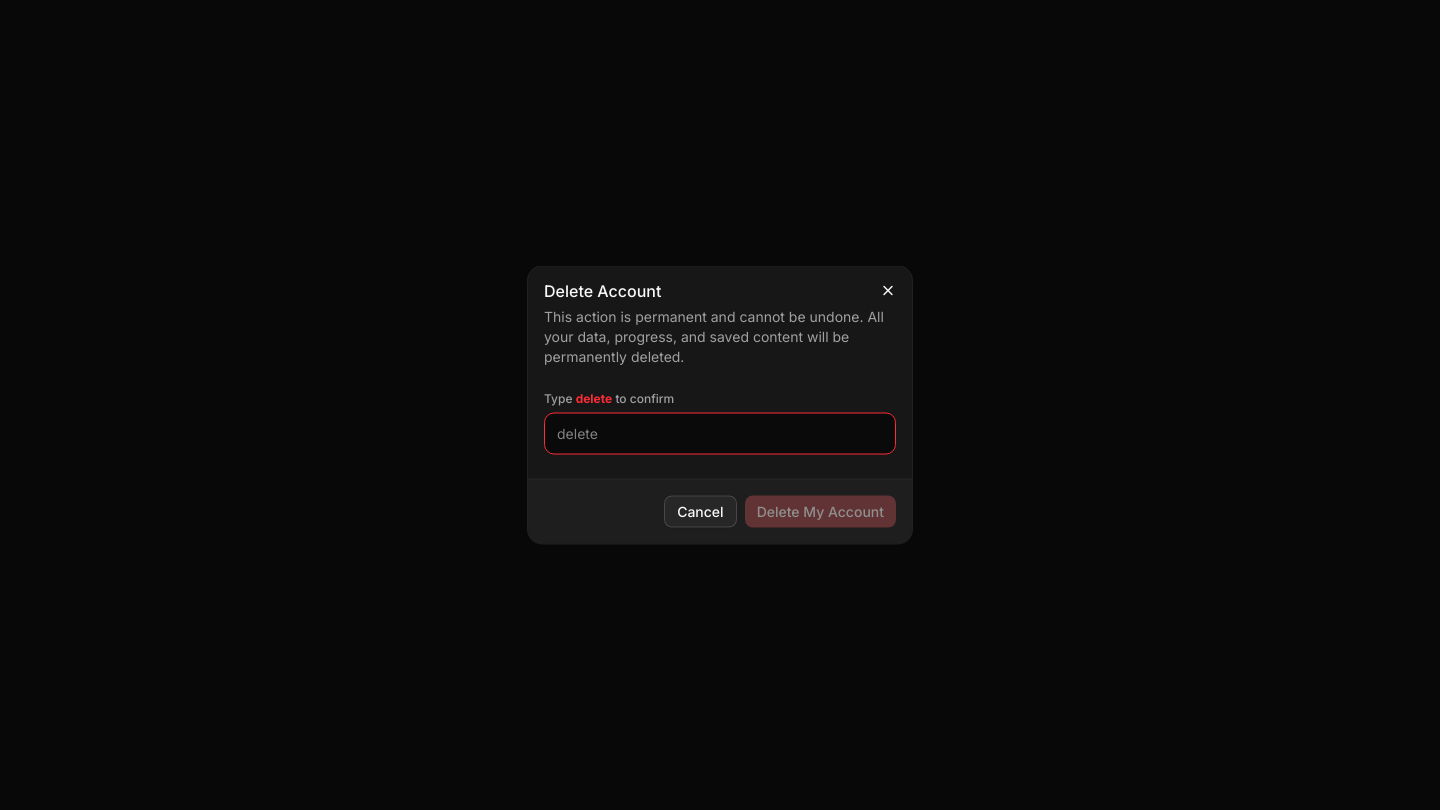
DeleteAccountDialog › accepts case-insensitive delete
In the field with placeholder "delete": [720, 434] box x1=544 y1=412 x2=896 y2=454, type "DELETE"
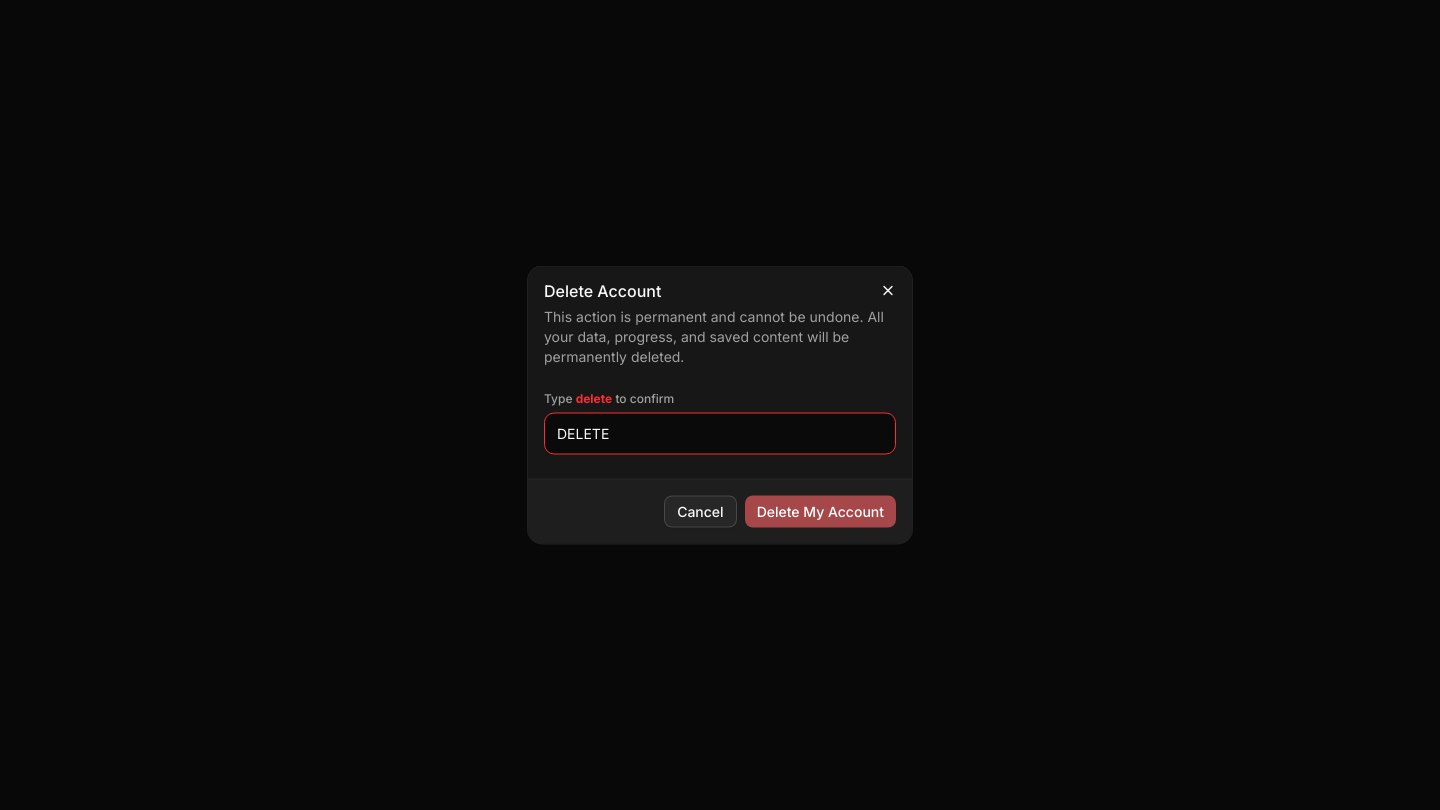
Now the button "Delete My Account" is enabled, box x1=745 y1=496 x2=896 y2=528
